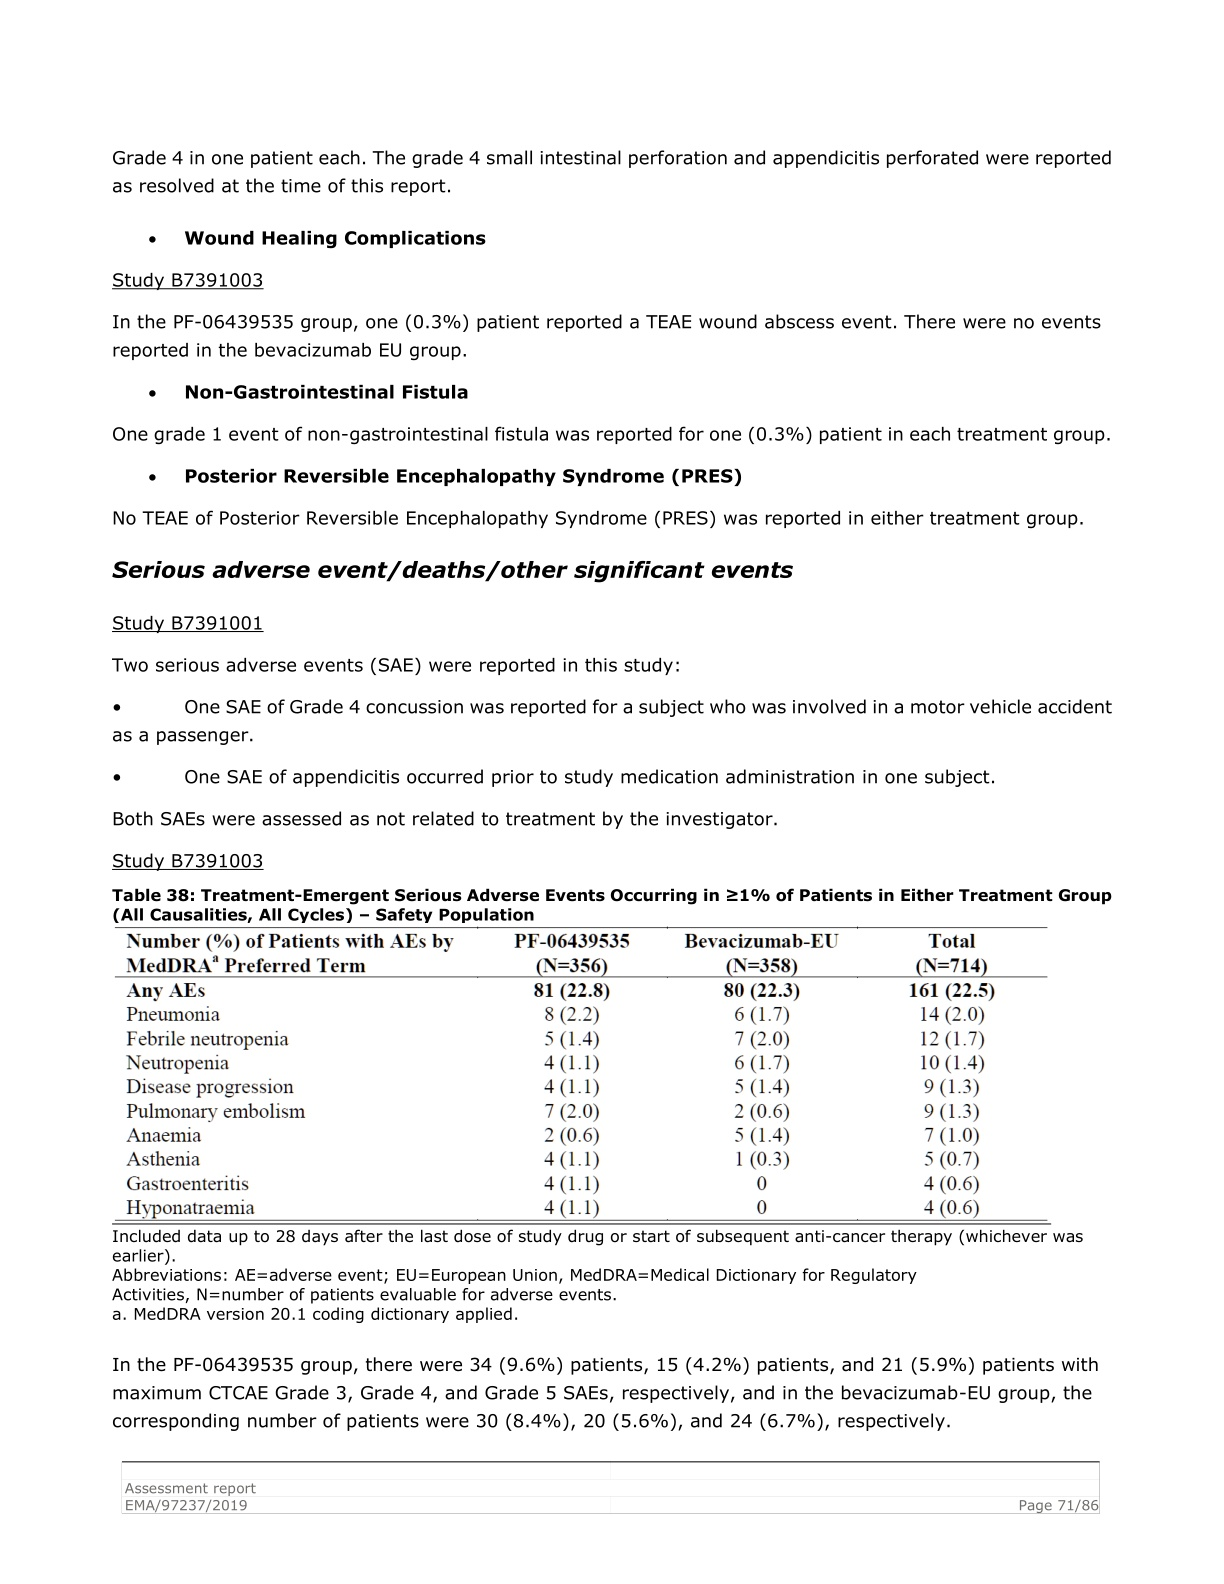partial_lined: (111, 921, 1065, 1229)
